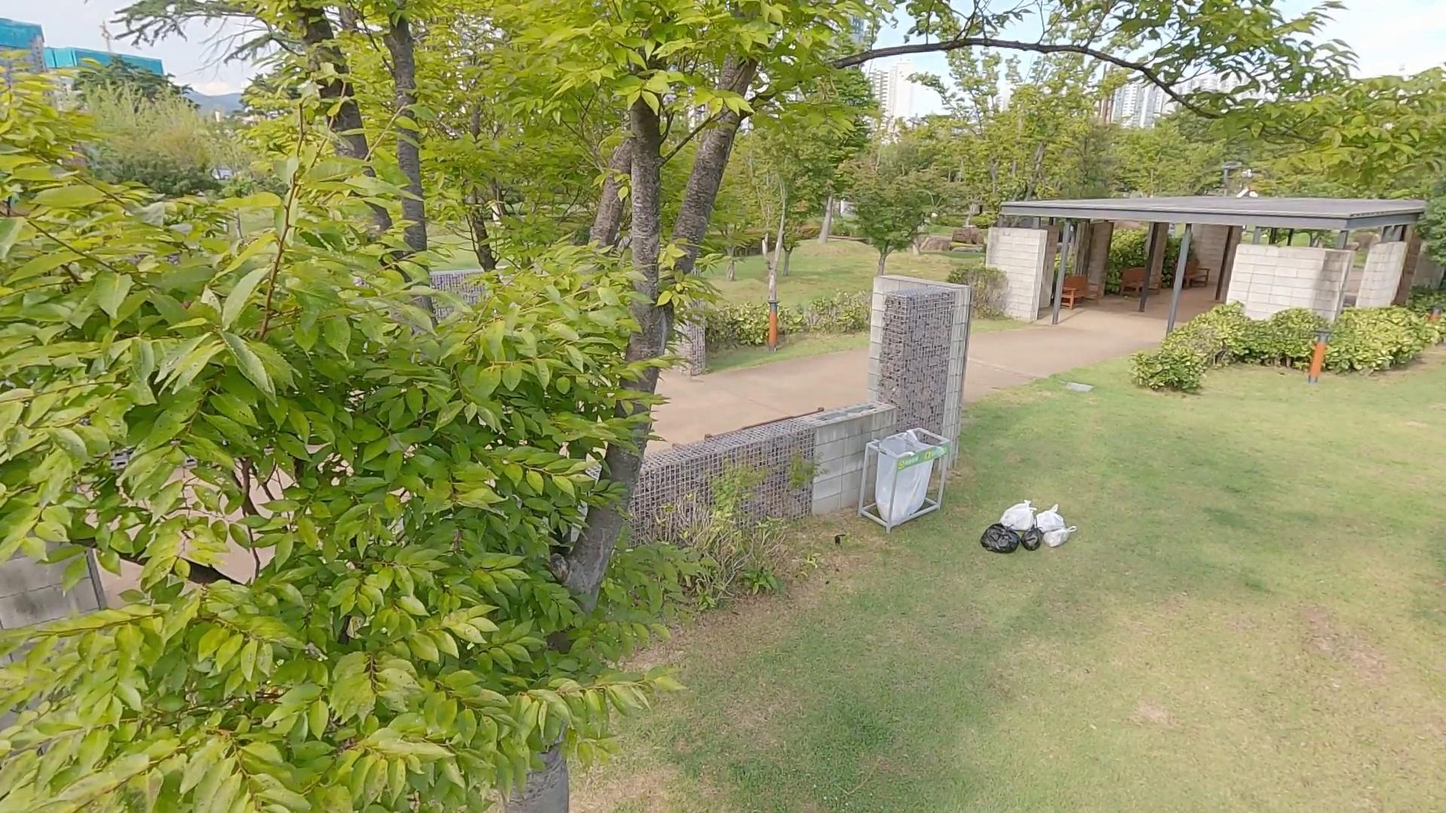trash: (997, 495, 1038, 536), (981, 518, 1024, 554), (1038, 521, 1083, 554), (1033, 497, 1070, 537), (1016, 518, 1040, 554)
